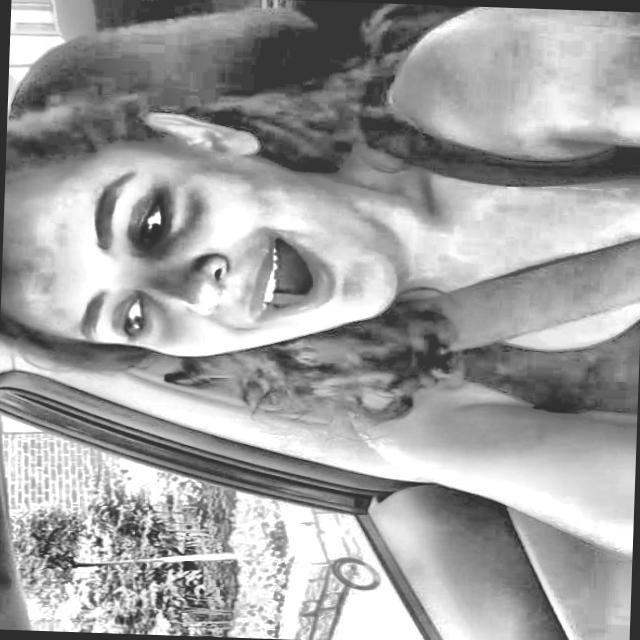open_eyes: (106, 287, 168, 356), (125, 185, 182, 257)
open_mouth: (238, 228, 356, 335)
